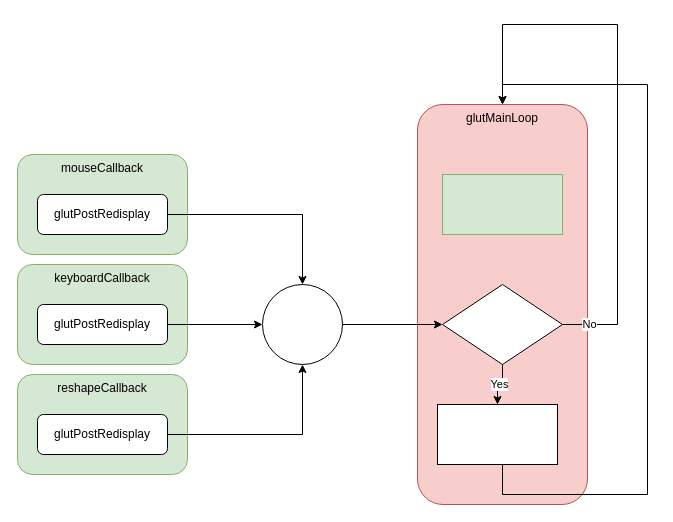
The diagram is 673 pixels wide and 522 high, and some of its shapes have lost their labels. The shapes that lost their labels are listed below. From the top down, each one's box as (x1, y1, x2, y2) in pixels, then its label:
(442, 174, 562, 234): handling triggered events...
(262, 284, 342, 364): REDISPLAY 1
(442, 284, 562, 364): REDISPLAY ?= 1
(436, 404, 558, 464): displayFunc()
